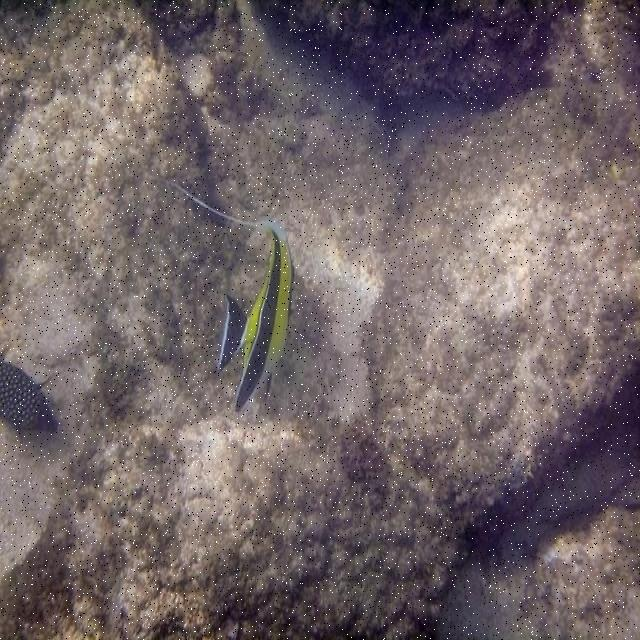fish: (162, 178, 294, 411), (1, 361, 58, 444)
